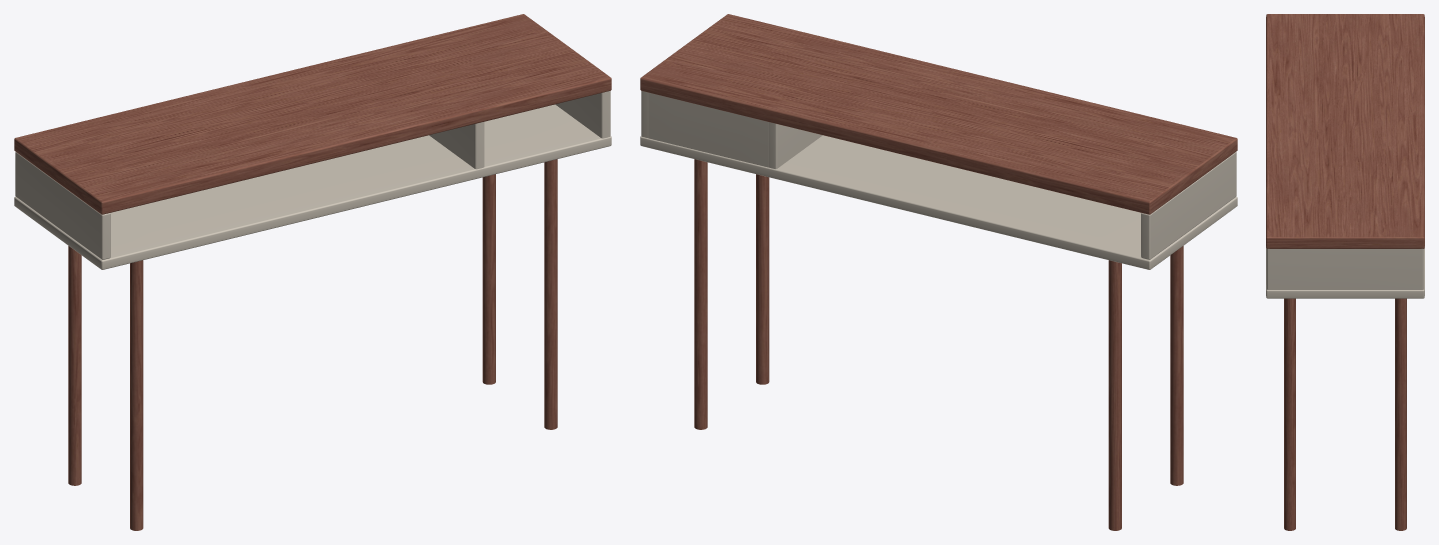
The model's file is escritorio_multi_blanco_natural.glb.
3 views of the same model, side by side, from view 1: azimuth 30°, elevation 25°; view 2: azimuth 150°, elevation 25°; view 3: azimuth 270°, elevation 25° (orthographic). The views are drawn at different scales.
Visible parts, largest first — view 1: escritorioMultiBlancoNatural; view 2: escritorioMultiBlancoNatural; view 3: escritorioMultiBlancoNatural.
Boxes of the visible parts, x1,y1,x2,y2 form: escritorioMultiBlancoNatural: [14, 14, 611, 530]; escritorioMultiBlancoNatural: [640, 14, 1237, 530]; escritorioMultiBlancoNatural: [1266, 14, 1424, 530].
Size of what is drawn, in the model's own units: 0.6844 by 0.4449 by 0.2053.
1 material, 1 textured.
